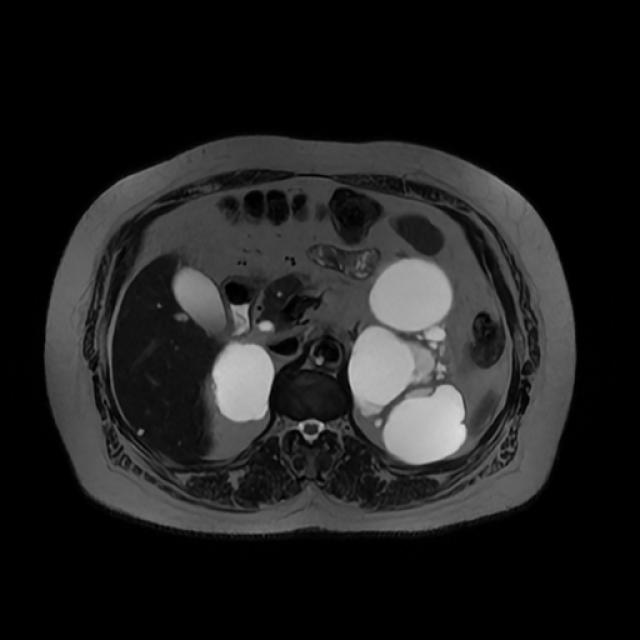sag: (210, 340, 274, 426)
sol: (347, 258, 469, 465)
